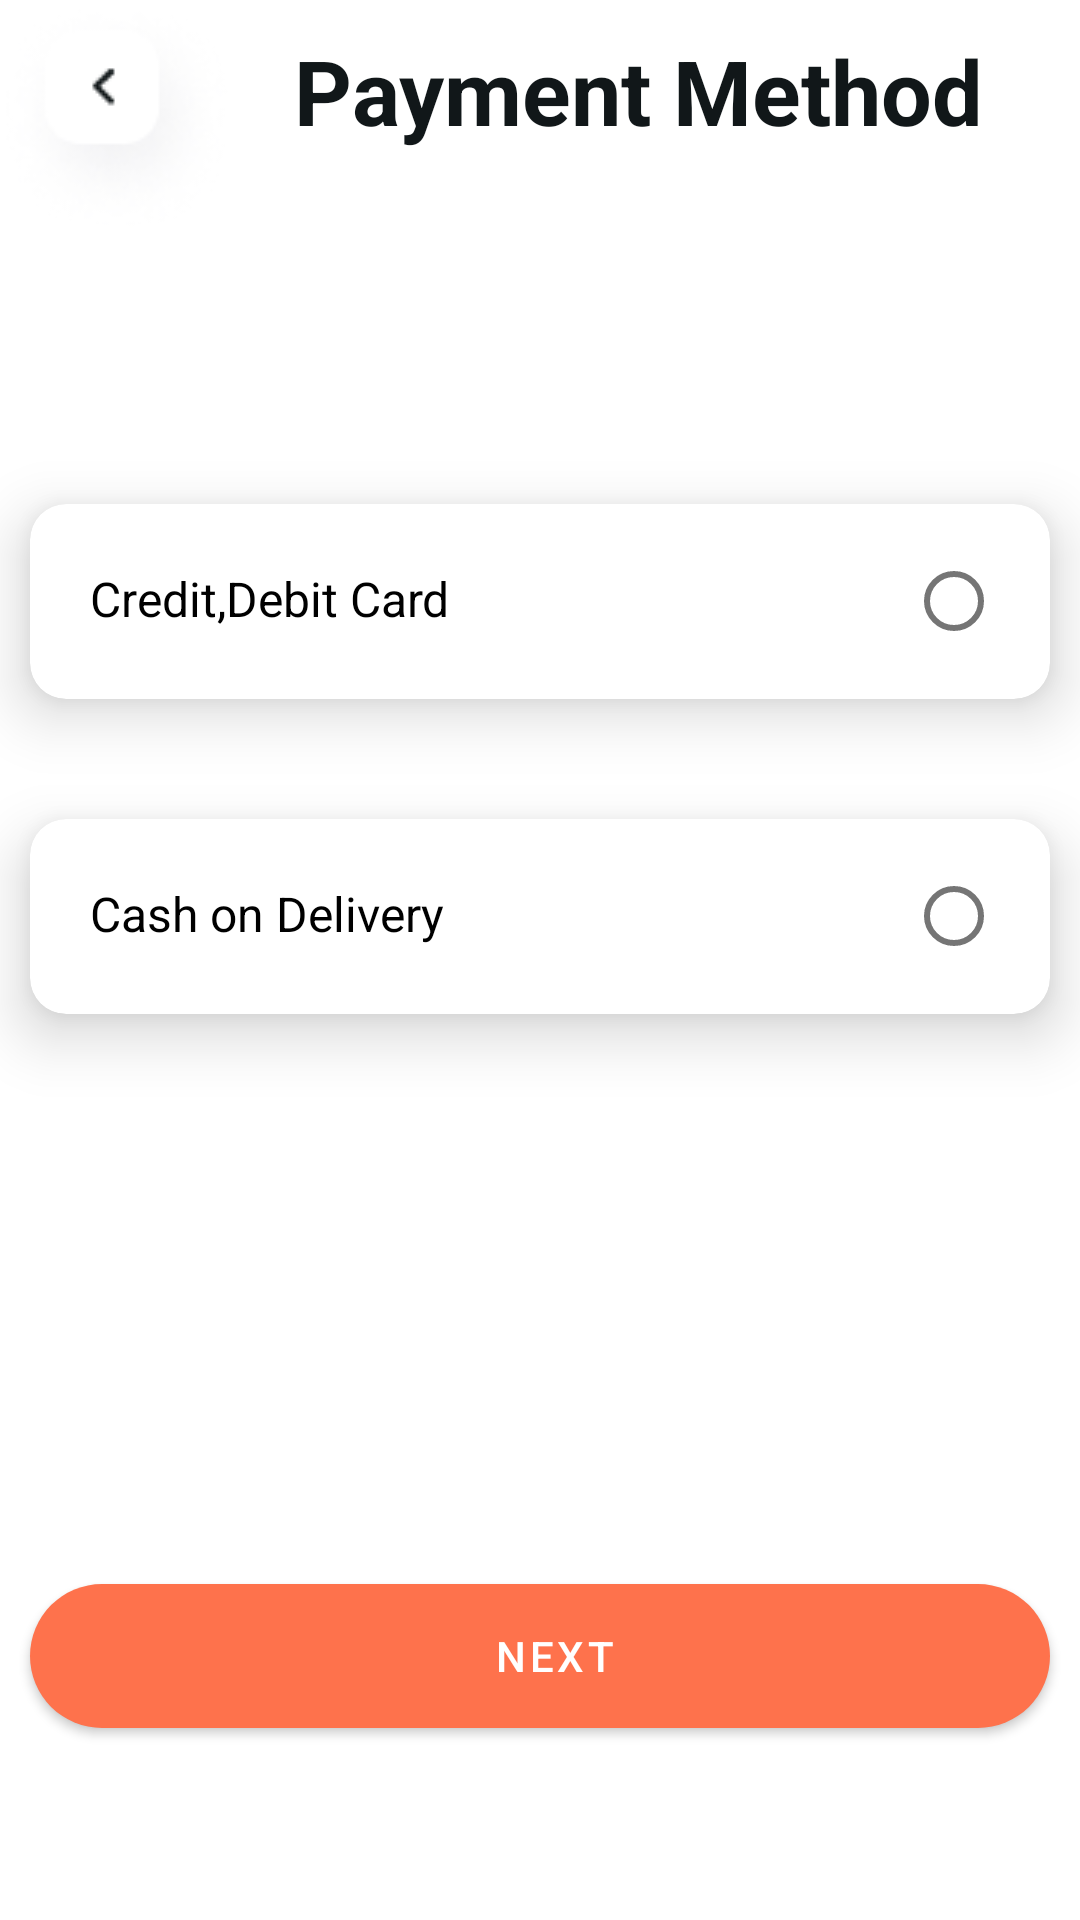

Icon click points for this 1080*1920 phone screenshot, format [x,y]:
back: [103,87]
